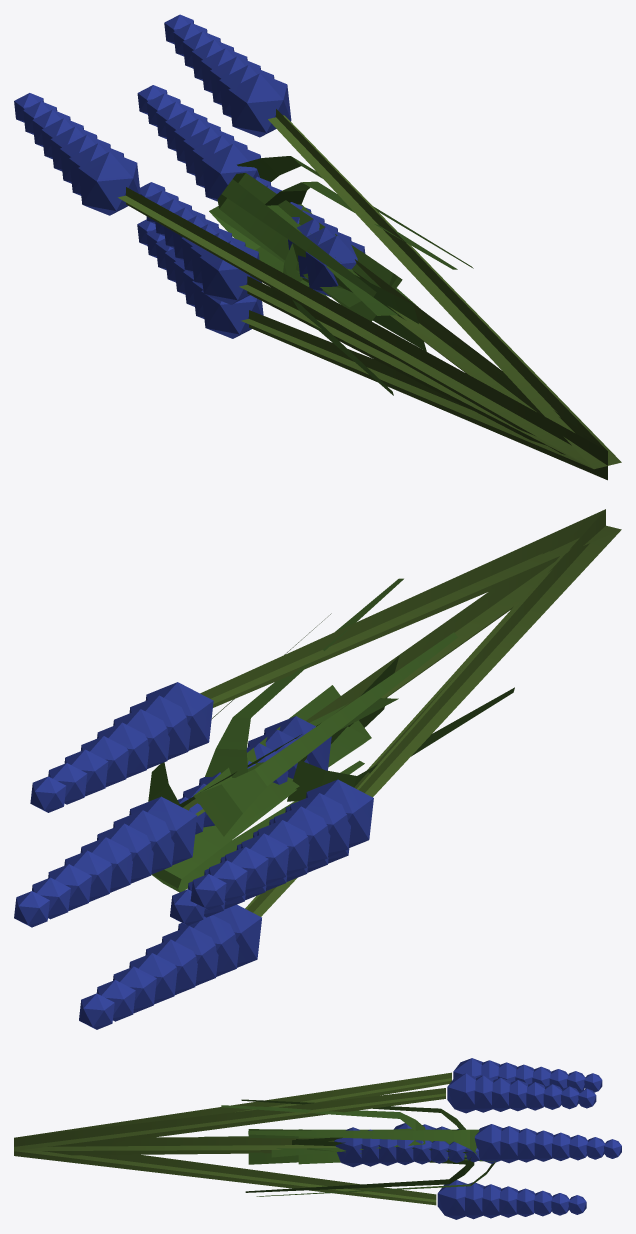
Rendered from flower_blue.glb.
3 views of the same model, one above another, from view 1: azimuth 30°, elevation 25°; view 2: azimuth 150°, elevation 25°; view 3: azimuth 270°, elevation 25° (orthographic). The views are drawn at different scales.
Parts seen in each view (by area): view 1: flower_blue; view 2: flower_blue; view 3: flower_blue.
Part boxes in pixels (left/top/right/bottom): flower_blue: left=14, top=14, right=621, bottom=480; flower_blue: left=14, top=509, right=621, bottom=1029; flower_blue: left=14, top=1058, right=621, bottom=1219.
Size of the model in its own units: 0.0769 by 0.0862 by 0.3019.
